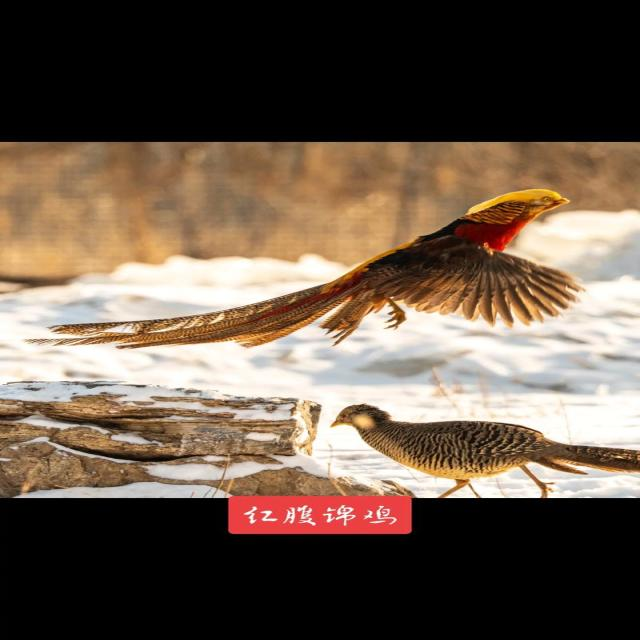Chrysolophus pictus feather: (22, 286, 356, 349), (538, 444, 640, 474)
